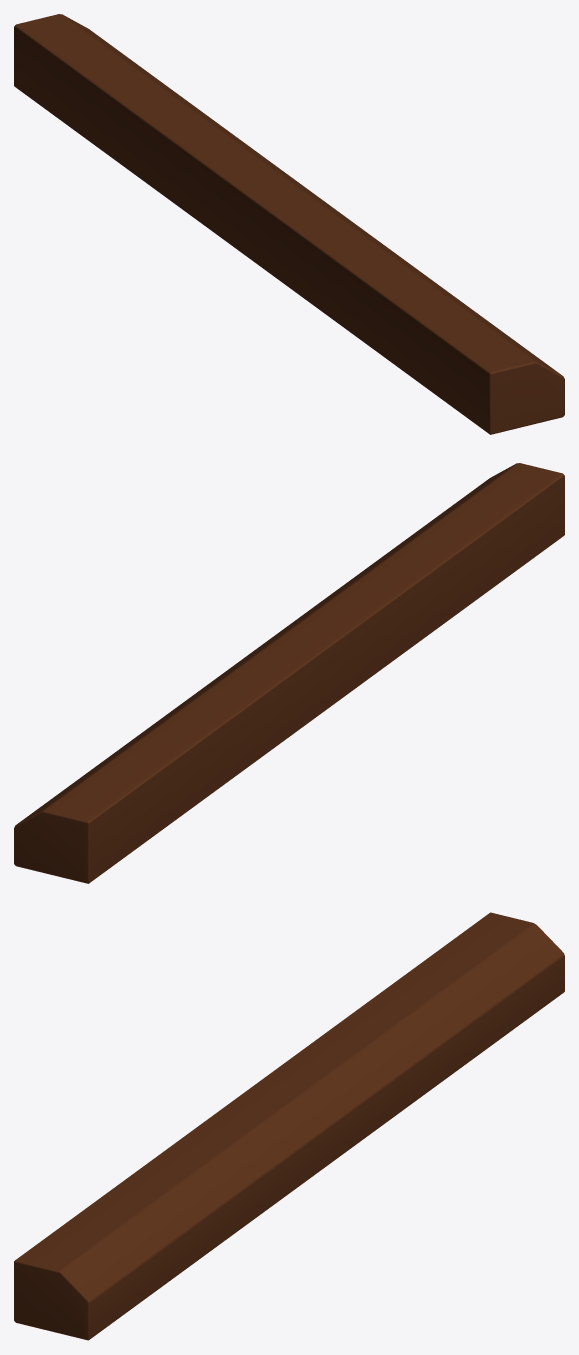
The model's file is SP_House01_RoofSupportBeam04.fbx.
The picture shows the model from 3 angles, top to bottom: view 1: azimuth 30°, elevation 25°; view 2: azimuth 150°, elevation 25°; view 3: azimuth 330°, elevation 25°; orthographic projection.
Parts seen in each view (by area): view 1: SP_House01_RoofSupportBeam04; view 2: SP_House01_RoofSupportBeam04; view 3: SP_House01_RoofSupportBeam04.
Boxes of the visible parts, box(x1,y1,x2,y2) form: SP_House01_RoofSupportBeam04: box(14, 14, 564, 434); SP_House01_RoofSupportBeam04: box(14, 463, 564, 883); SP_House01_RoofSupportBeam04: box(14, 912, 564, 1340).
Size of the model in its own units: 0.1975 by 0.1557 by 2.13.
